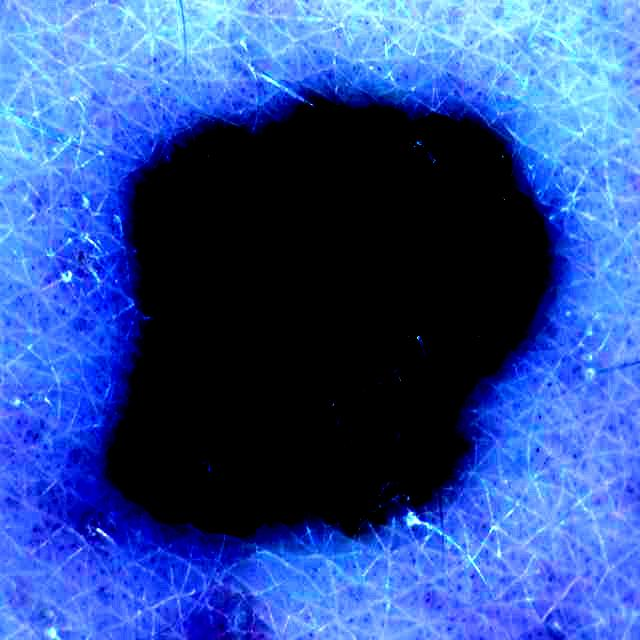MEL: (118, 101, 544, 531)
